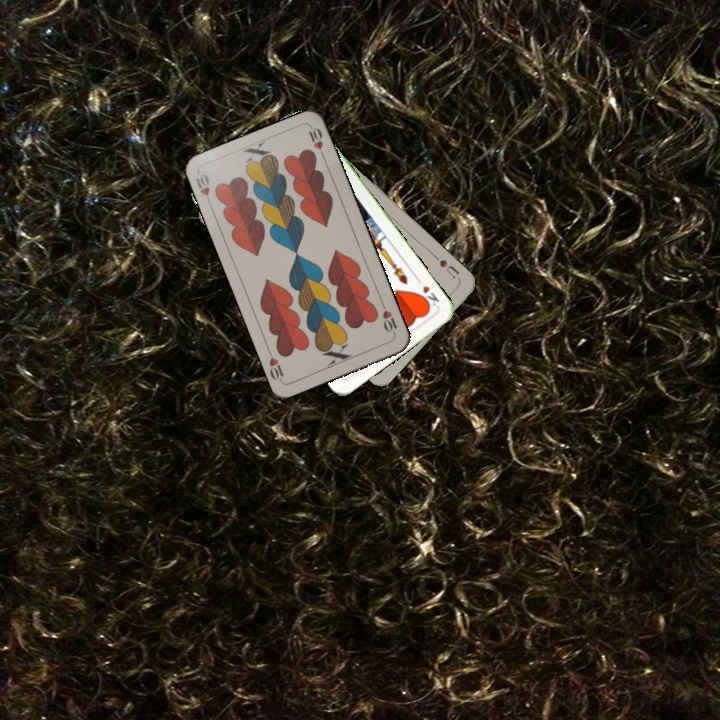H10: (377, 299, 400, 338), (191, 170, 214, 208)
HK: (415, 282, 442, 310)
SU: (435, 256, 462, 281)
